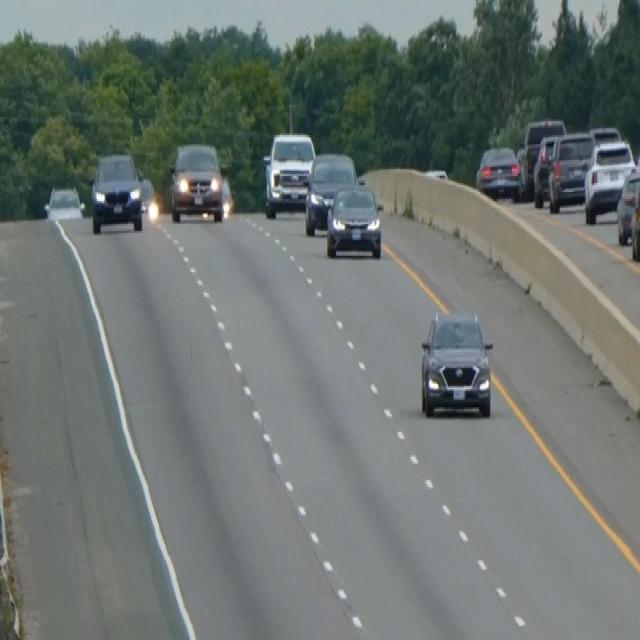car: (89, 149, 144, 233), (304, 149, 357, 235), (325, 180, 383, 258), (583, 137, 635, 222), (546, 130, 595, 212), (518, 116, 566, 198), (475, 144, 522, 199), (532, 133, 561, 204), (616, 164, 638, 244), (43, 183, 85, 221), (588, 122, 621, 146), (630, 174, 639, 260)
jeep: (417, 304, 495, 421), (261, 130, 316, 217)
minivan: (169, 140, 224, 222)
